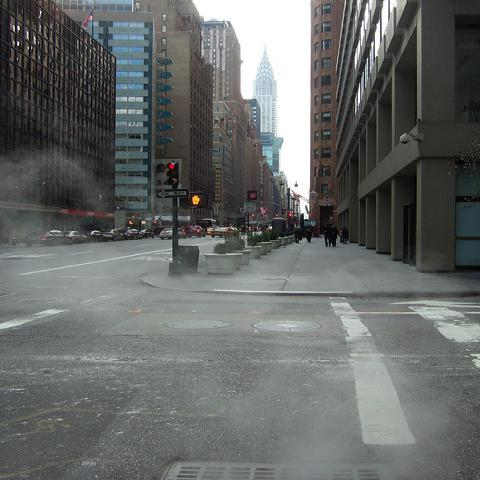car: (66, 225, 208, 247), (20, 230, 76, 246), (63, 230, 89, 245), (160, 226, 187, 240), (81, 230, 108, 242), (103, 229, 127, 242), (186, 225, 206, 238), (212, 227, 236, 237), (123, 230, 143, 240), (138, 228, 154, 238), (249, 227, 254, 232)
